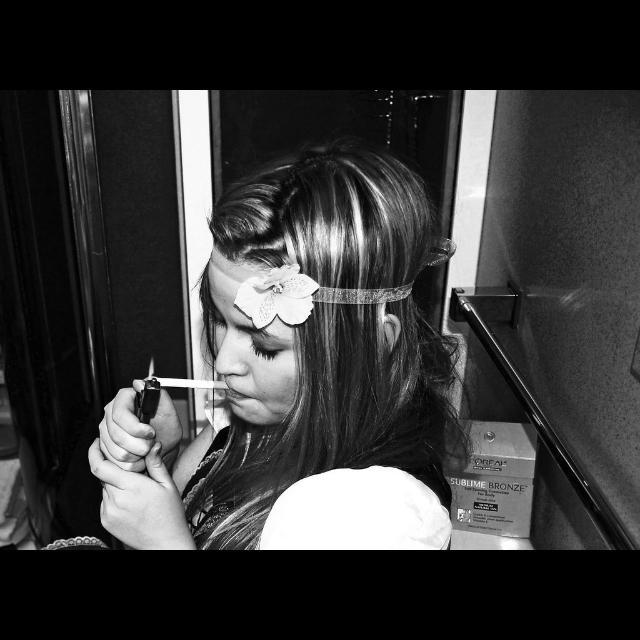rokok: (148, 369, 232, 398)
